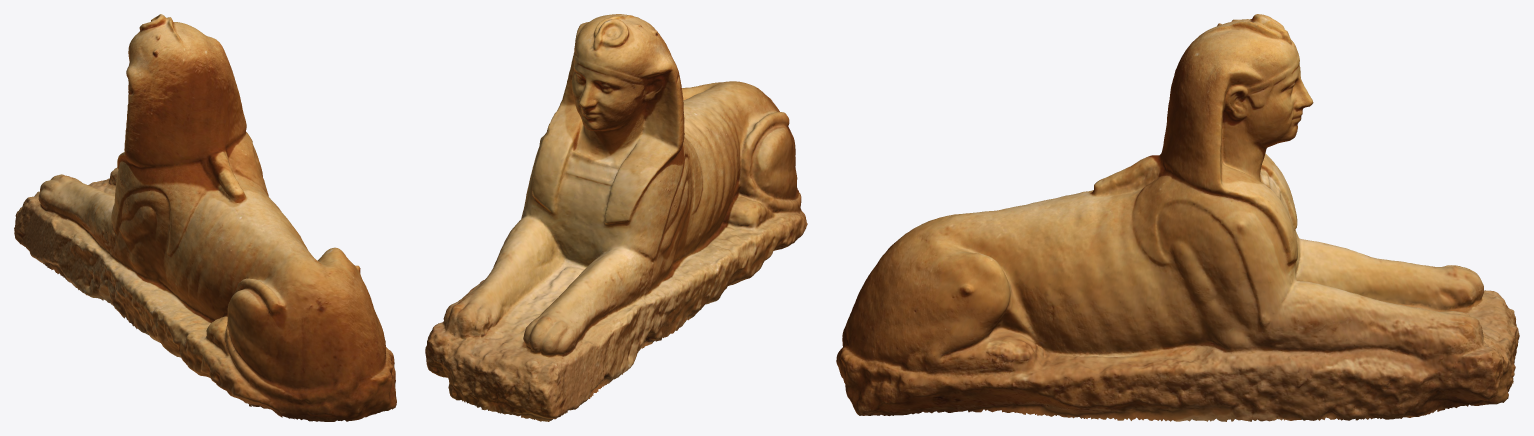
Rendered from sphinx.glb.
3 views of the same model, side by side, from view 1: azimuth 30°, elevation 25°; view 2: azimuth 150°, elevation 25°; view 3: azimuth 270°, elevation 25° (orthographic). The views are drawn at different scales.
Visible parts, largest first — view 1: Object_2; view 2: Object_2; view 3: Object_2.
Part boxes in pixels (x1,y1,x2,y2): Object_2: (14,14,396,421); Object_2: (425,14,807,421); Object_2: (836,14,1519,421).
Size of the model in its own units: 291906 by 547255 by 947675.
1 material, 1 textured.
